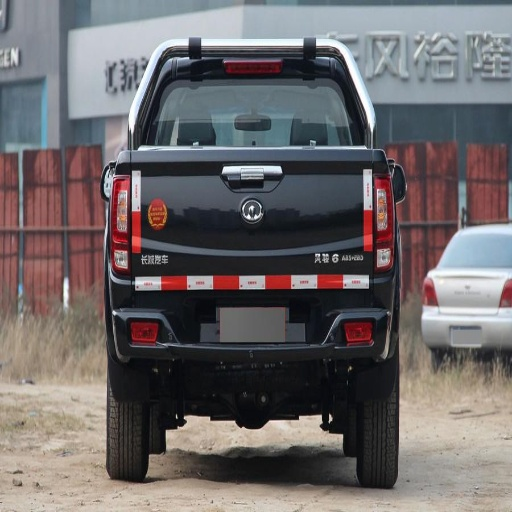back_bumper: (107, 284, 397, 372)
trunk: (113, 151, 380, 302), (437, 269, 509, 339)
